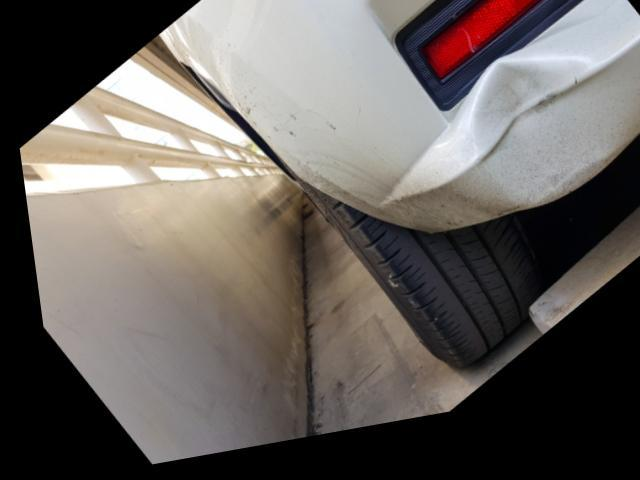dent: (464, 78, 613, 224)
